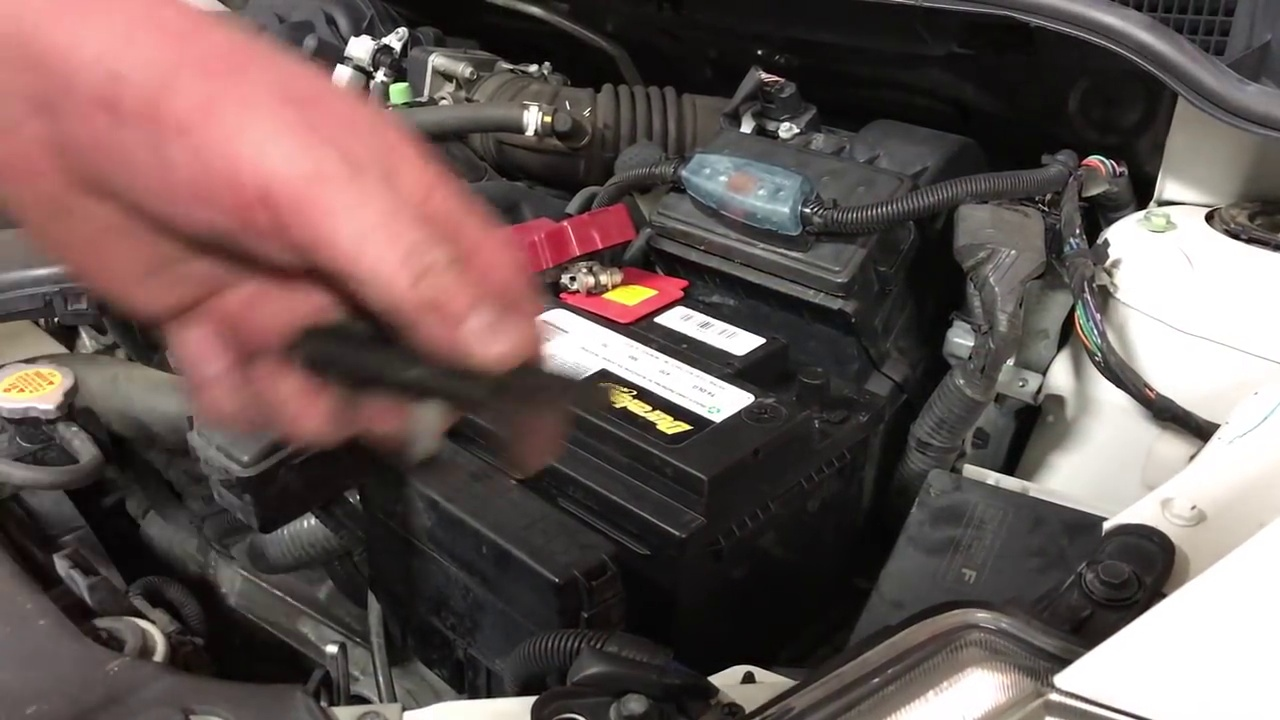battery: (434, 216, 834, 487)
pos_connected: (488, 190, 650, 336)
pos_touched: (328, 109, 692, 350)
